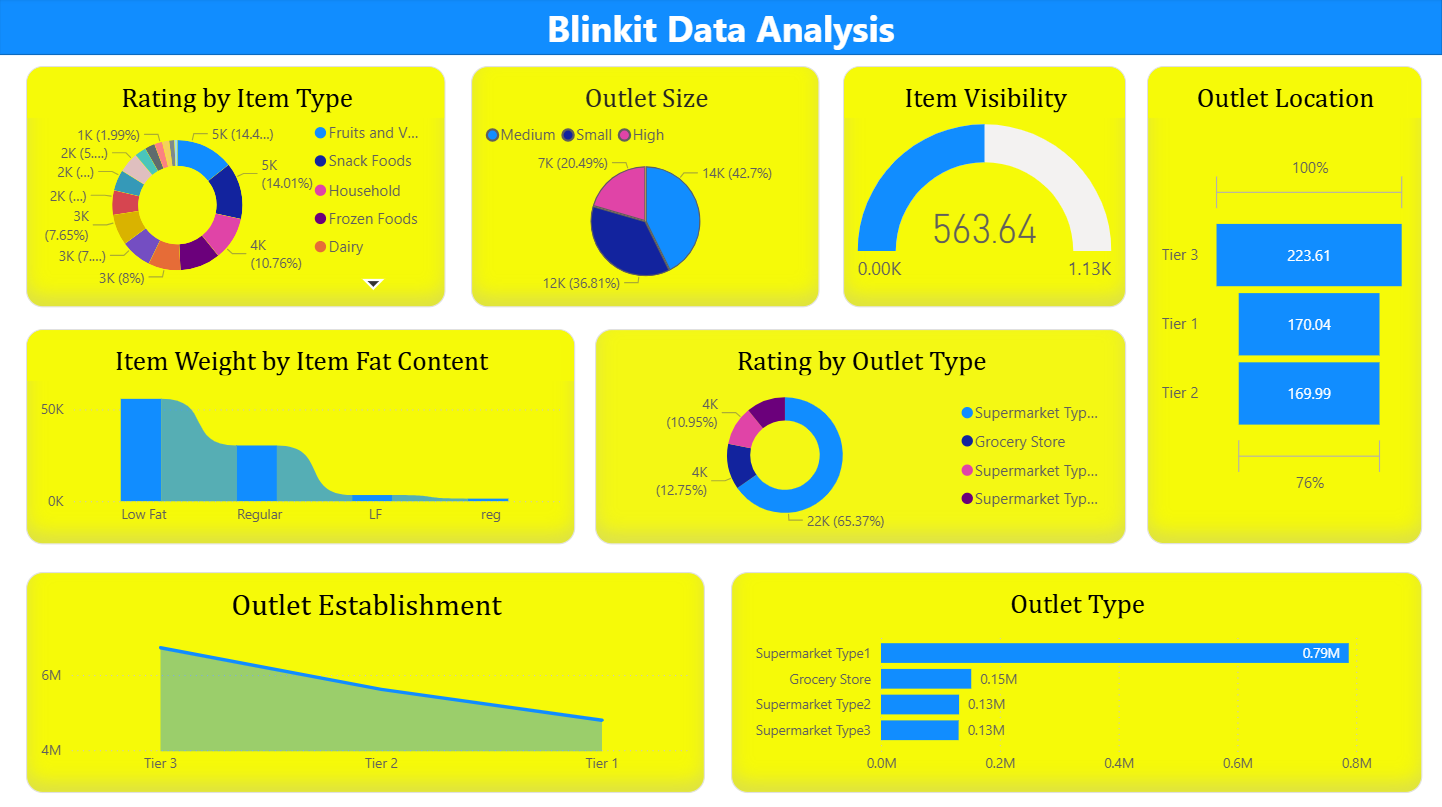

The page's visual inventory and layout, read from the dashboard file:
{"tool":"powerbi","page":{"name":"Page 1","canvas":[1280,720],"ordinal":0},"visuals":[{"type":"pieChart","title":"Outlet Size","fields":{"Category":["blinkit_data.Outlet Size"],"Y":["Sum(blinkit_data.Rating)"]},"box":[418.5,60.3,309.5,213.7],"z":0},{"type":"funnel","title":"Outlet Location ","fields":{"Category":["blinkit_data.Outlet Location Type"],"Y":["Sum(blinkit_data.Item Visibility)"]},"box":[1017.9,60.3,243.8,423.8],"z":1000},{"type":"areaChart","title":"Outlet Establishment","fields":{"Category":["blinkit_data.Outlet Location Type"],"Y":["Sum(blinkit_data.Outlet Establishment Year)"]},"box":[23.9,509,602.1,196],"z":2000},{"type":"clusteredBarChart","title":" Outlet Type","fields":{"Category":["blinkit_data.Outlet Type"],"Y":["Sum(blinkit_data.Sales)"]},"box":[649.1,509,612.7,196],"z":3000},{"type":"donutChart","title":"Rating by Item Type","fields":{"Category":["blinkit_data.Item Type"],"Y":["Sum(blinkit_data.Rating)"]},"box":[23.9,60.3,372.4,213.7],"z":4000},{"type":"ribbonChart","title":"Item Weight by Item Fat Content","fields":{"Category":["blinkit_data.Item Fat Content"],"Y":["Sum(blinkit_data.Item Weight)"]},"box":[23.9,293.5,486.8,190.6],"z":5000},{"type":"gauge","title":"Item Visibility","fields":{"Y":["Sum(blinkit_data.Item Visibility)"]},"box":[748.4,60.3,250.9,213.7],"z":6000},{"type":"donutChart","title":"Rating by Outlet Type","fields":{"Category":["blinkit_data.Outlet Type"],"Y":["Sum(blinkit_data.Rating)"]},"box":[528.5,293.5,470.8,190.6],"z":7000},{"type":"shape","box":[0,0,1280,50.6],"z":8000}]}

Visuals, with their boxes in screenshot pixels (x1, y1, x2, y2), scaled from the page's 1280x720 canvas onto the 1442x807 screenshot:
"Outlet Size" pieChart: {"x1": 471, "y1": 68, "x2": 820, "y2": 307}
"Outlet Location " funnel: {"x1": 1147, "y1": 68, "x2": 1421, "y2": 543}
"Outlet Establishment" areaChart: {"x1": 27, "y1": 571, "x2": 705, "y2": 790}
" Outlet Type" clusteredBarChart: {"x1": 731, "y1": 571, "x2": 1421, "y2": 790}
"Rating by Item Type" donutChart: {"x1": 27, "y1": 68, "x2": 446, "y2": 307}
"Item Weight by Item Fat Content" ribbonChart: {"x1": 27, "y1": 329, "x2": 575, "y2": 543}
"Item Visibility" gauge: {"x1": 843, "y1": 68, "x2": 1126, "y2": 307}
"Rating by Outlet Type" donutChart: {"x1": 595, "y1": 329, "x2": 1126, "y2": 543}
shape: {"x1": 0, "y1": 0, "x2": 1441, "y2": 57}
